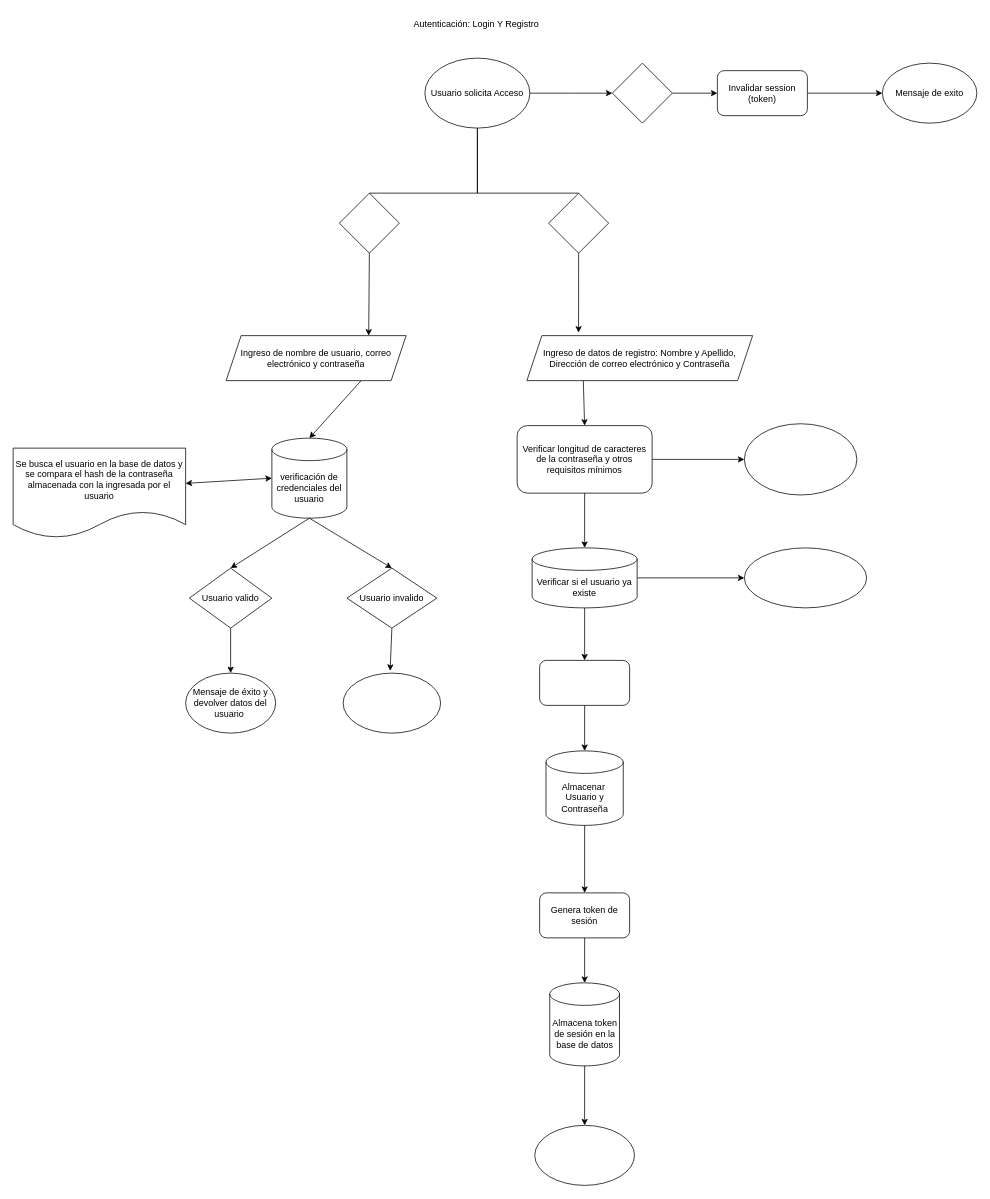
The diagram is 990 pixels wide and 1199 high, and some of its shapes have lost their labels. Here are the shapes that lost their labels. From the top down, the centre of each, then its label:
[642,92]: /logout
[369,222]: /login
[578,222]: /register
[800,459]: Mensaje de error de credenciales
[805,577]: Mensaje de error de Usuario ya existente
[391,702]: Mensaje de error: credenciales invalidas
[584,682]: Generar salt y hash de la contraseña
[584,1155]: Devolver mensaje de éxito al registrar
